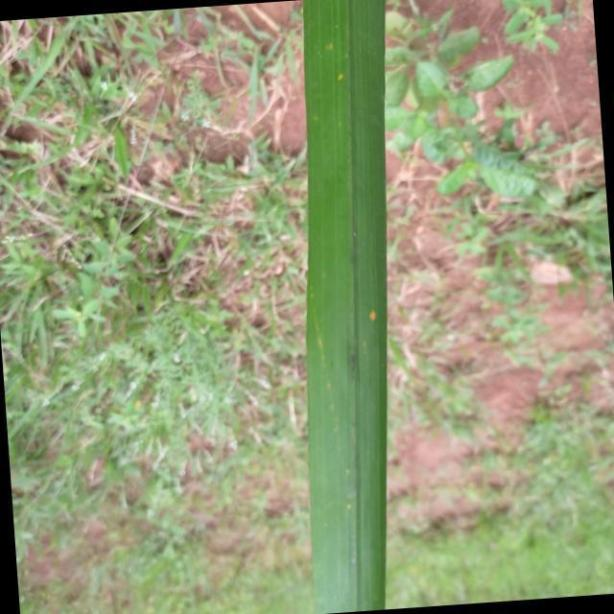Kalium: (301, 0, 390, 614)
